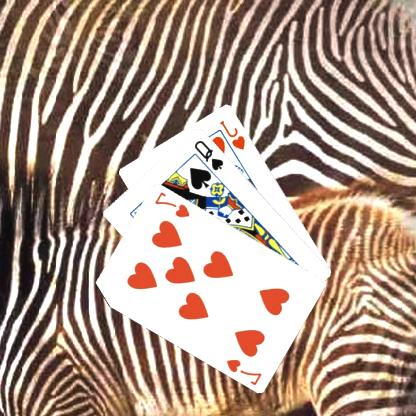7H: (225, 356, 266, 386), (153, 188, 193, 218)
JH: (218, 117, 248, 151)
QS: (193, 137, 226, 172)
